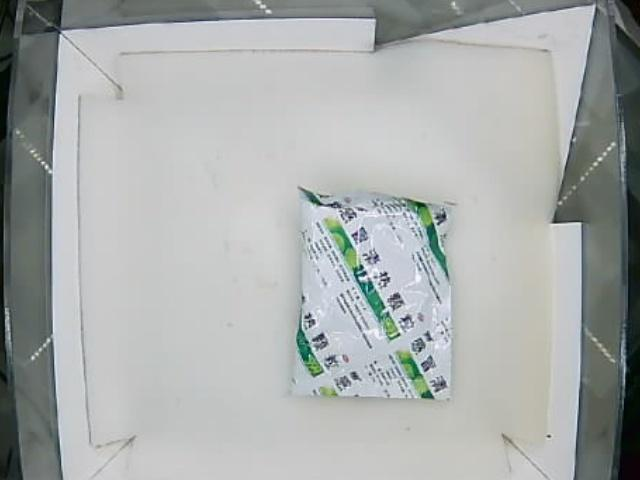Medicine: (296, 183, 454, 403)
